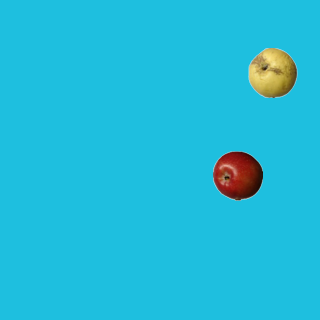Apple Braeburn: (212, 150, 262, 200)
Apple Golden 1: (247, 47, 297, 97)
